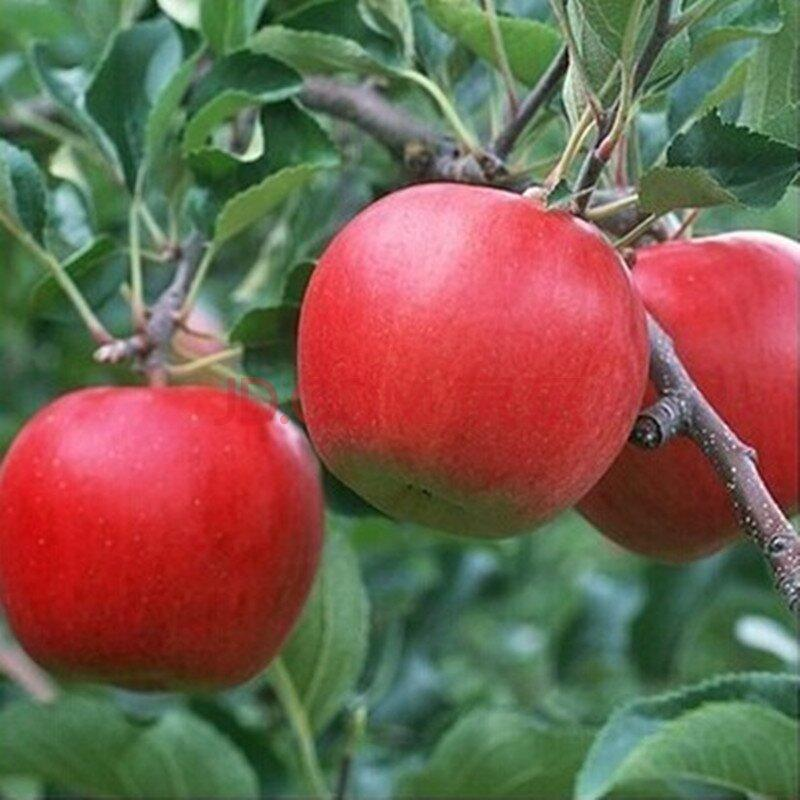apple: (298, 182, 650, 542), (1, 387, 329, 691), (624, 240, 800, 602)
